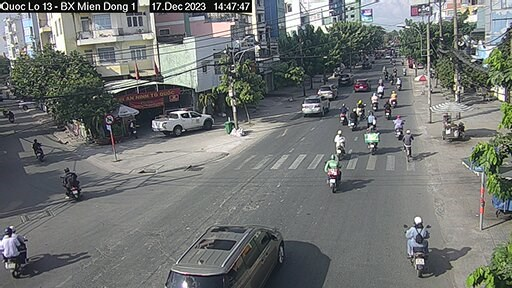car: (163, 224, 280, 288), (150, 109, 216, 134), (300, 90, 328, 123), (352, 73, 370, 90), (318, 80, 333, 100), (337, 72, 355, 85)
motorbike: (401, 215, 428, 270), (322, 153, 344, 190), (400, 133, 416, 157), (363, 127, 379, 150), (334, 130, 346, 150), (392, 118, 406, 133)
